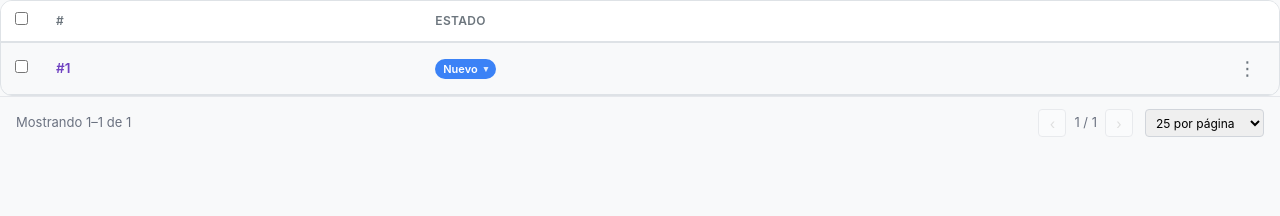
Scenario: TasksTableView — bulk actions › shows "Cerrar" button in bulk bar
Click the checkbox named "Seleccionar fila t1": {"x": 22, "y": 67} [15,60,28,74]
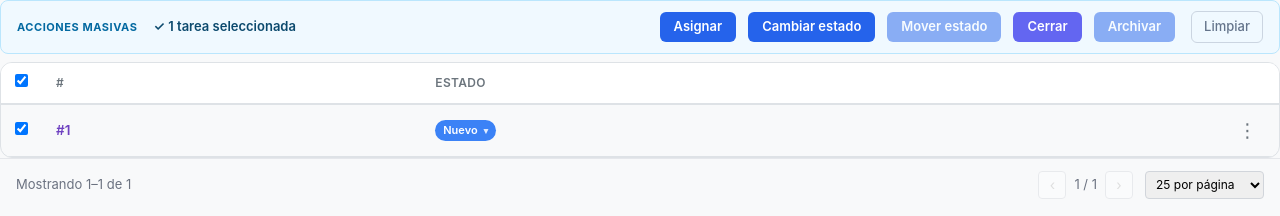
Expected: the button with test id "bulk-close-btn" is shown, [1014,12,1082,42]
